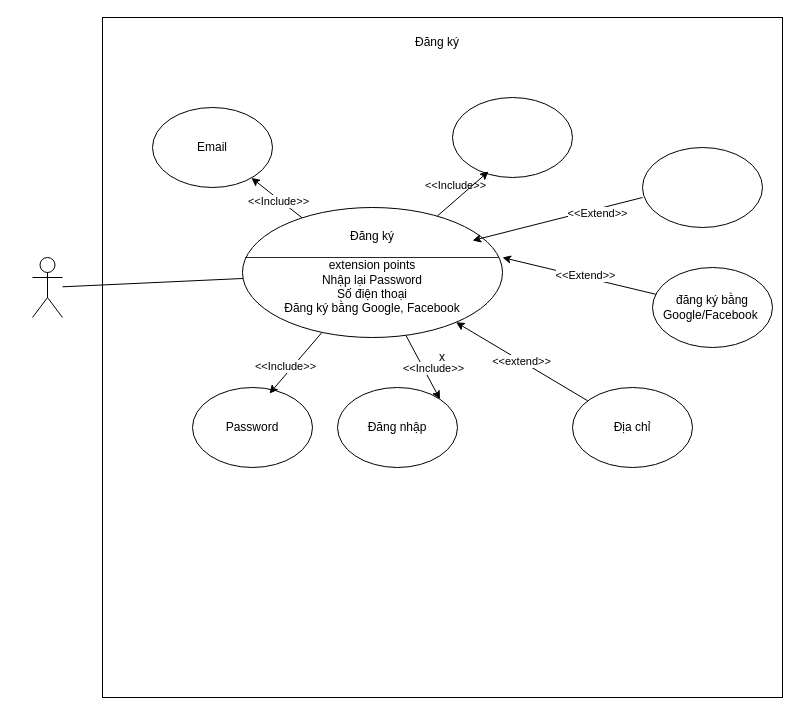
Image size: 800x715. Some labels were removed from this diagram. Each missing label, with the centre of its shape:
"Khách thuê" belongs at [47,287].
"Sdt" belongs at [702,187].
"Username" belongs at [512,137].
